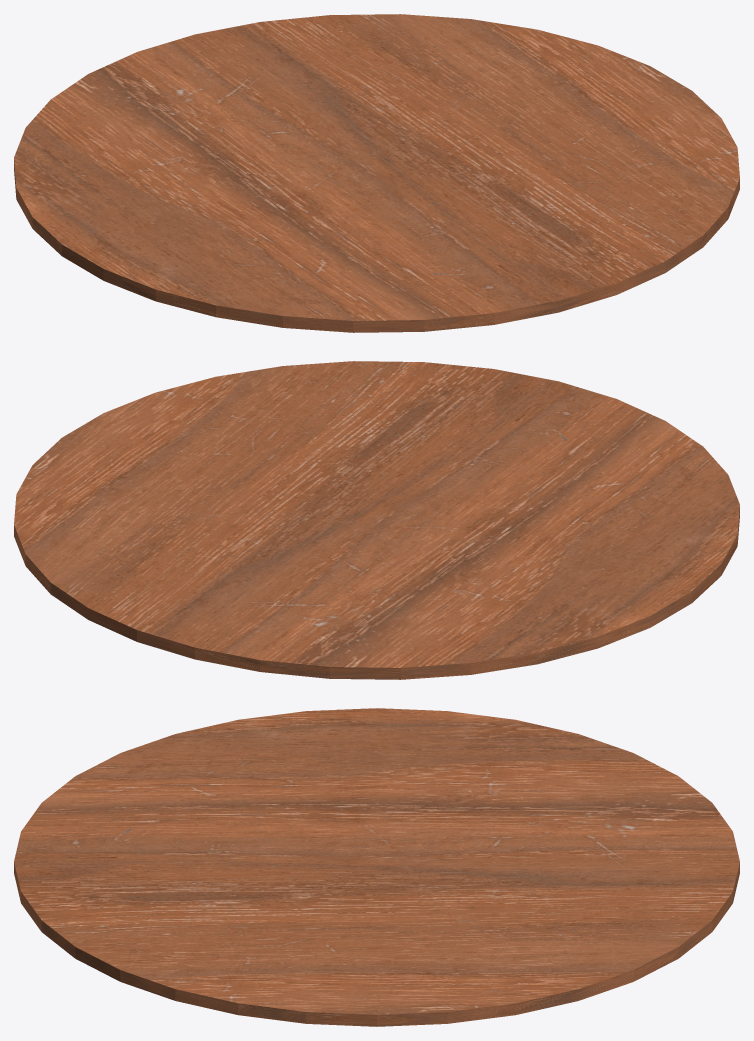
File: balanceboard-wood.glb
3 renders of one model, top to bottom at view 1: azimuth 30°, elevation 25°; view 2: azimuth 150°, elevation 25°; view 3: azimuth 270°, elevation 25°, orthographic.
Visible parts, largest first — view 1: Sphere; view 2: Sphere; view 3: Sphere.
Boxes of the visible parts, x1,y1,x2,y2 form: Sphere: (14,14,739,332); Sphere: (14,361,739,679); Sphere: (14,708,739,1026).
Size of the model in its own units: 5.22 by 1.05 by 5.22.
2 materials, 1 textured.
